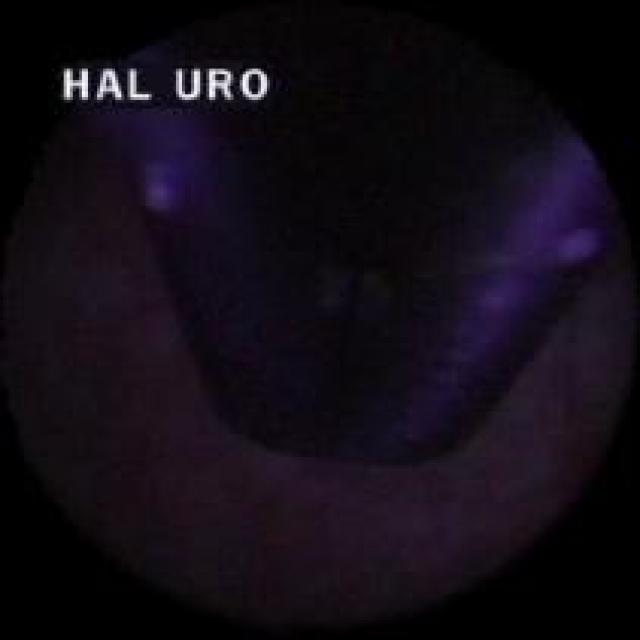color misalignment: (48, 55, 285, 114)
contrast: (15, 12, 625, 609)
instrument: (109, 53, 592, 453)
